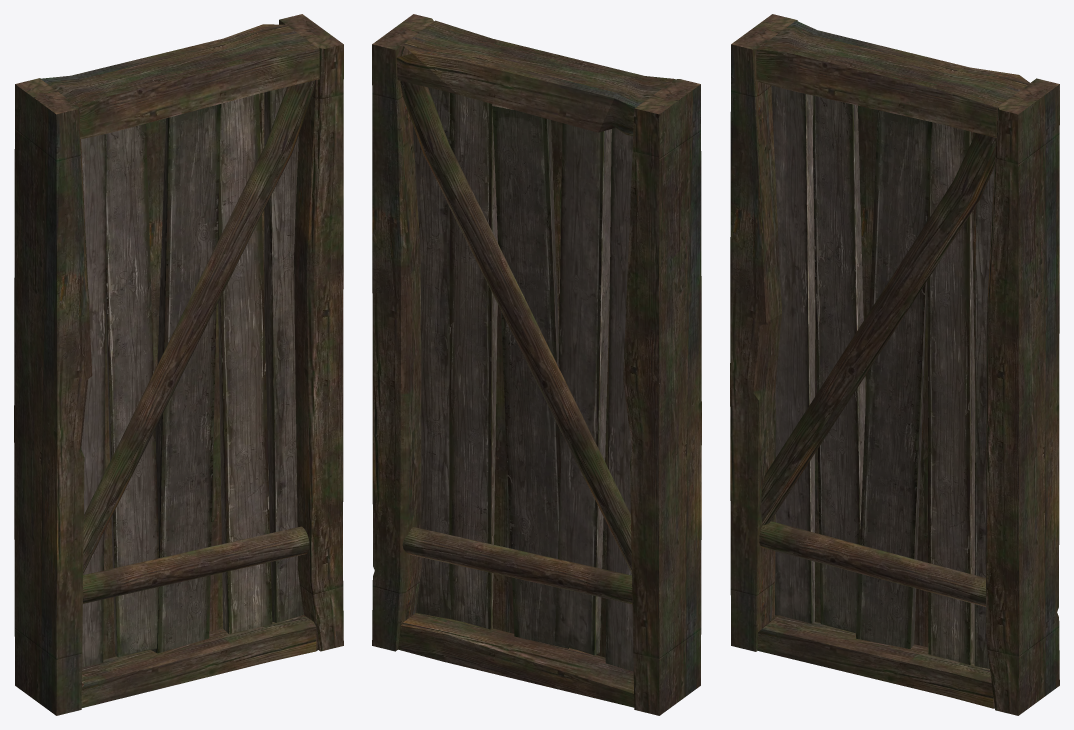
3 views of the same model, side by side, from view 1: azimuth 30°, elevation 25°; view 2: azimuth 150°, elevation 25°; view 3: azimuth 330°, elevation 25° (orthographic).
Visible parts, largest first — view 1: SM_BB_T1_Wall_Large_Narrow_LOD0; view 2: SM_BB_T1_Wall_Large_Narrow_LOD0; view 3: SM_BB_T1_Wall_Large_Narrow_LOD0.
Boxes of the visible parts, <box> form: SM_BB_T1_Wall_Large_Narrow_LOD0: <box>14,14,343,715</box>; SM_BB_T1_Wall_Large_Narrow_LOD0: <box>372,14,701,715</box>; SM_BB_T1_Wall_Large_Narrow_LOD0: <box>730,14,1059,715</box>.
Bounding box in the file's own units: 1.5 × 3 × 0.3913.
Materials: 2 (2 with a texture image).
